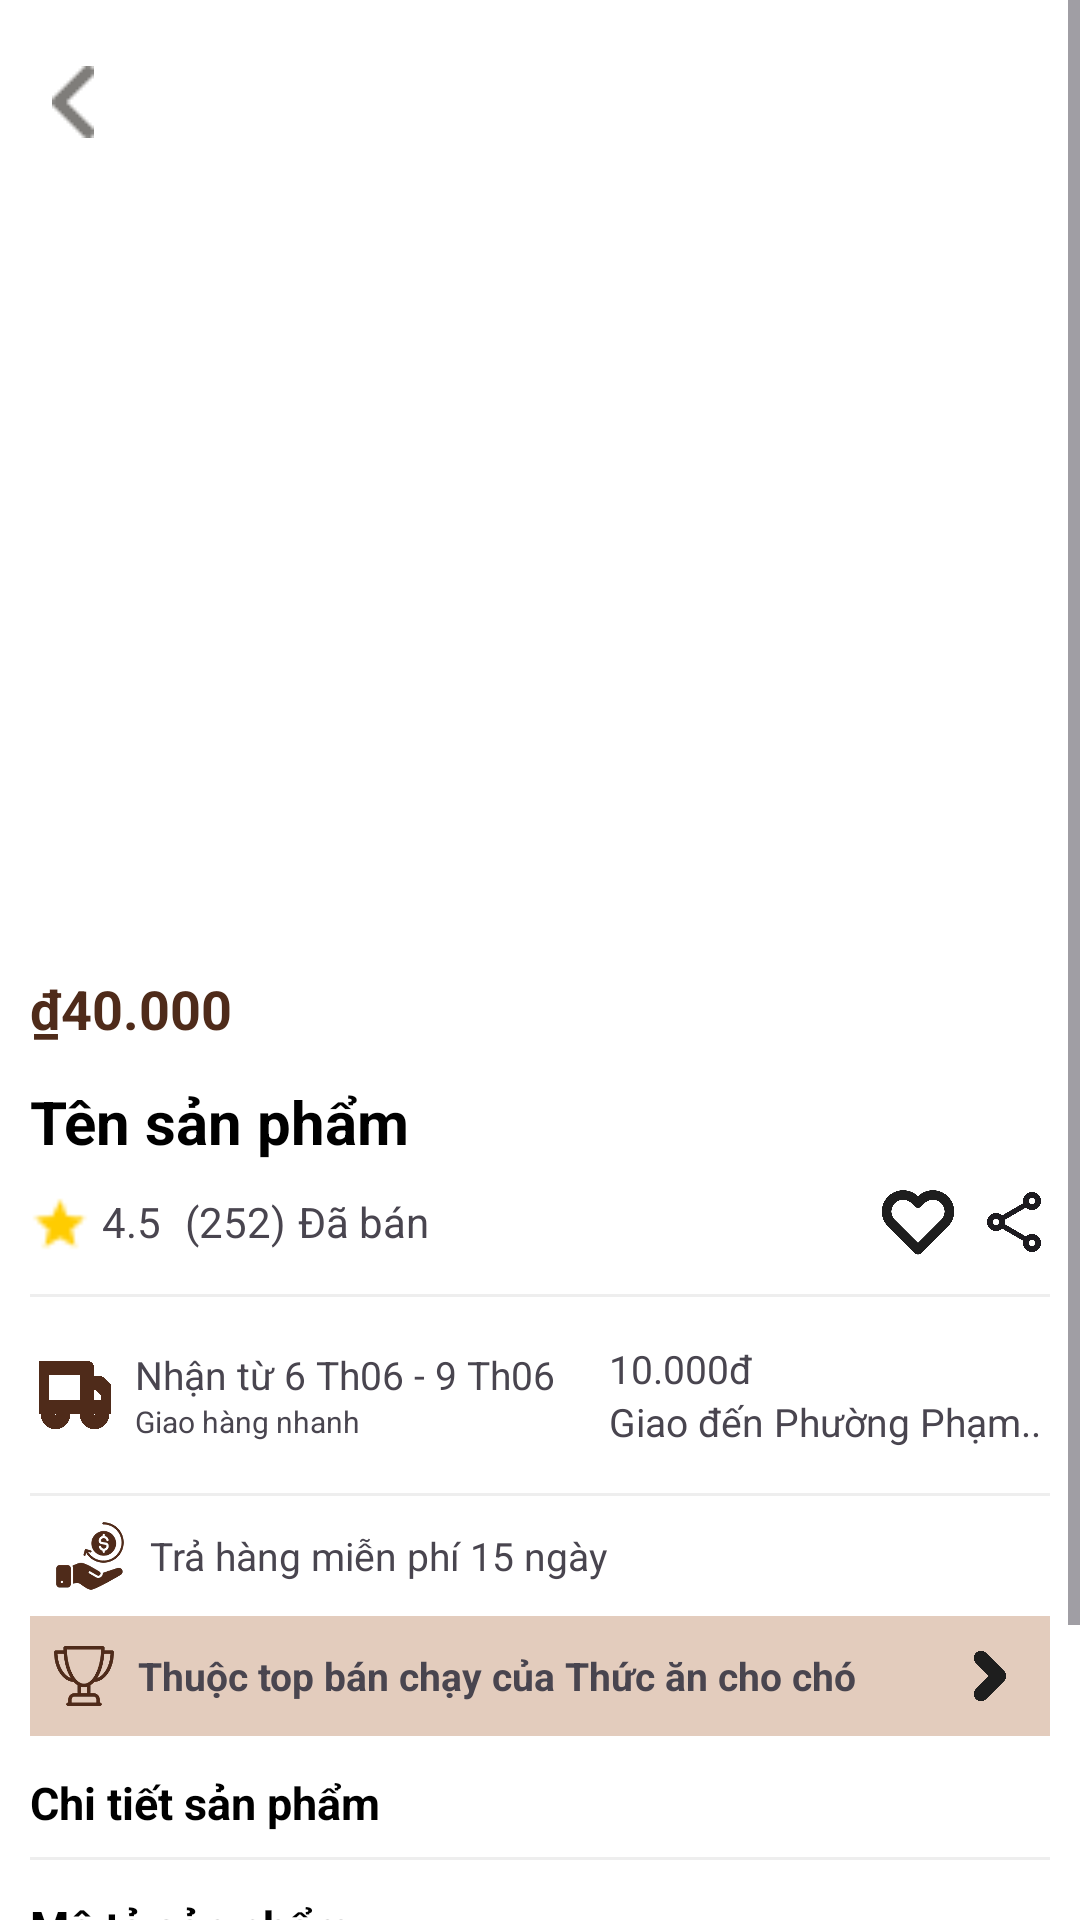

Icons on this 1080 × 1920 Android screen, each with its box as box(x1, y1, x2, y2):
chevron right: box(974, 1651, 1006, 1701)
heart: box(882, 1190, 954, 1255)
refund: box(56, 1522, 124, 1590)
share: box(987, 1192, 1041, 1252)
star: box(34, 1199, 86, 1248)
trophy: box(54, 1646, 114, 1706)
truck: box(39, 1361, 111, 1429)
